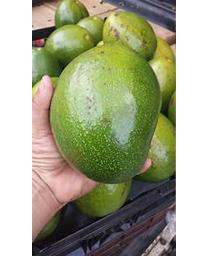avocado: (50, 42, 161, 184)
